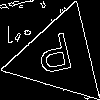P: (34, 32, 77, 84)
